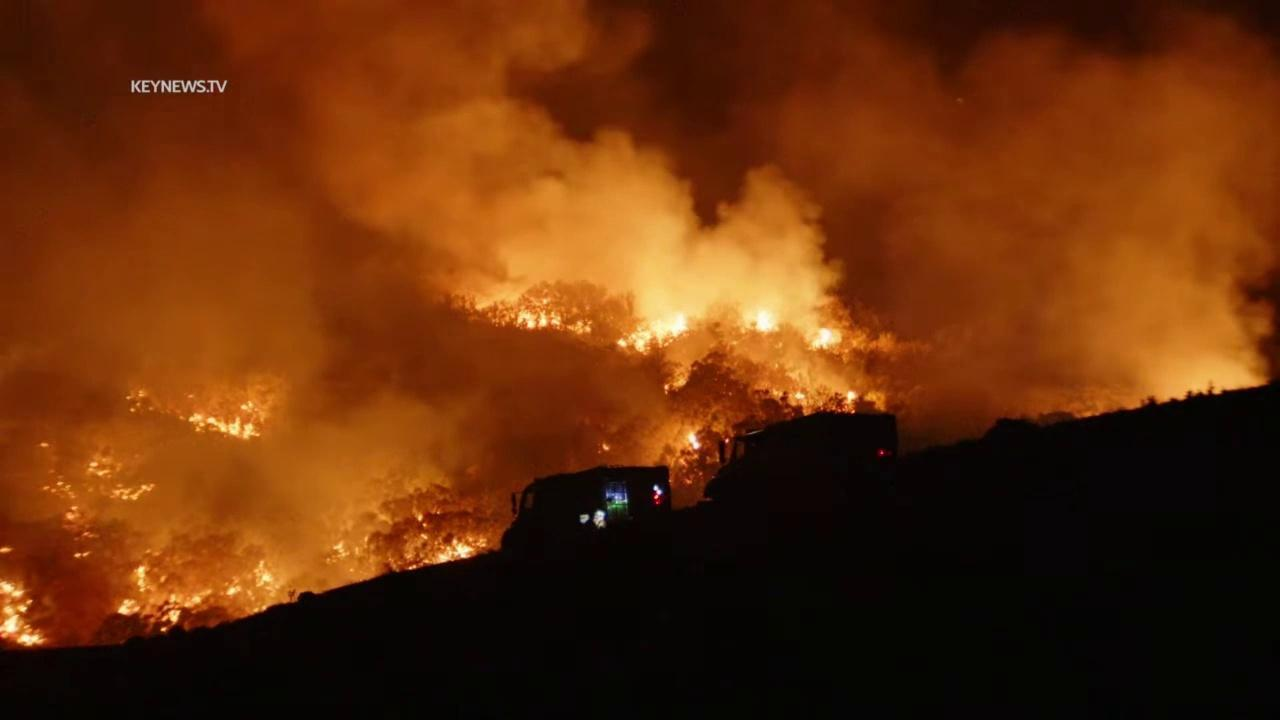fire: (160, 559, 281, 633), (85, 451, 157, 501), (0, 576, 49, 648), (187, 400, 265, 442), (510, 297, 592, 335), (615, 310, 691, 350), (59, 504, 102, 542), (428, 537, 477, 566), (38, 480, 79, 500), (752, 309, 780, 333), (325, 541, 352, 563), (810, 326, 834, 350), (116, 596, 143, 617), (134, 564, 151, 591), (686, 429, 704, 451), (844, 389, 859, 407), (74, 550, 93, 559), (793, 391, 809, 401), (0, 544, 16, 553), (36, 440, 51, 449), (600, 442, 612, 452), (415, 511, 424, 522), (662, 382, 670, 394), (422, 523, 430, 528)
smoke: (0, 0, 1280, 656)
